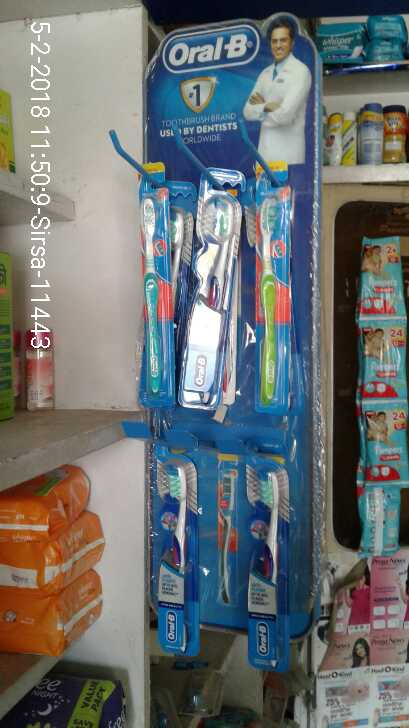pharmacy: (184, 188, 240, 397), (247, 448, 286, 684), (130, 193, 170, 391), (149, 452, 188, 647), (257, 192, 289, 417), (354, 391, 409, 490), (349, 238, 409, 320), (356, 321, 409, 394)
